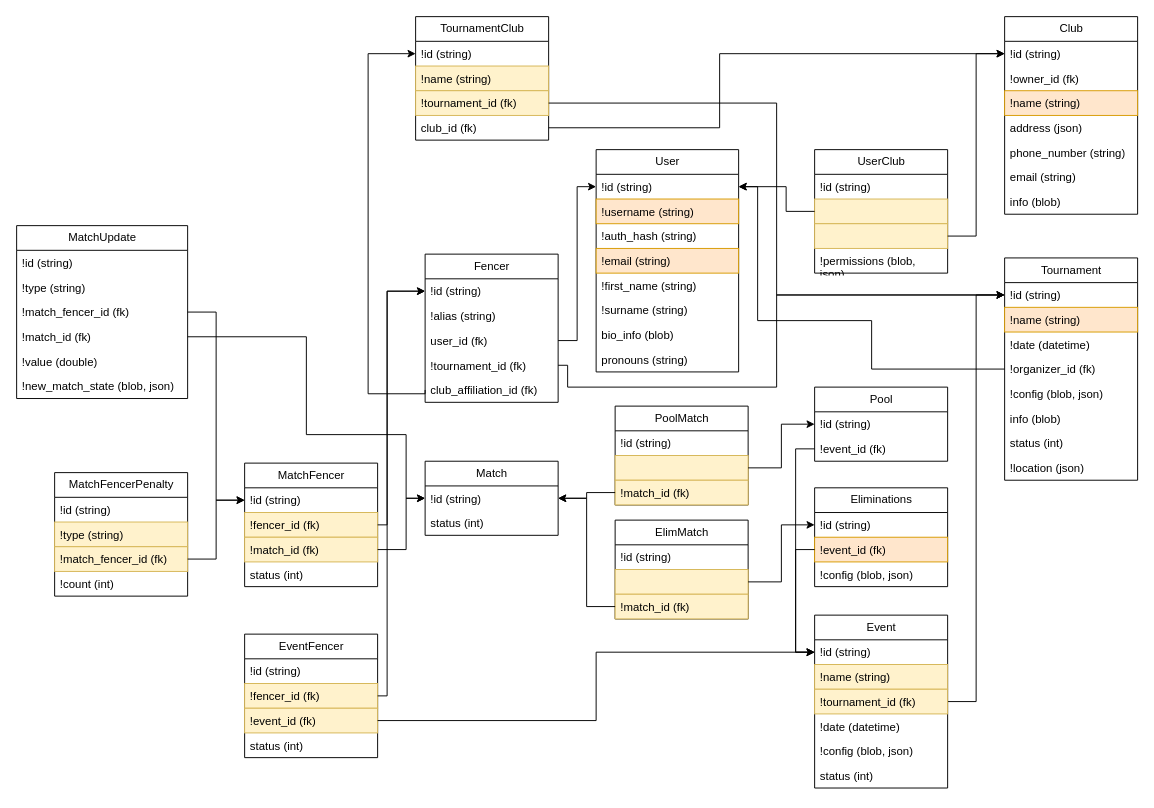
The diagram is 1154 pixels wide and 808 high, and some of its shapes have lost their labels. Each missing label, with the centre of its shape:
!club_id (fk): (881,235)
!elim_id (fk): (681,581)
!pool_id (fk): (681,467)
!user_id (fk): (881,211)
